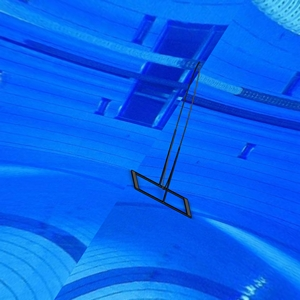circle: (129, 60, 202, 220)
